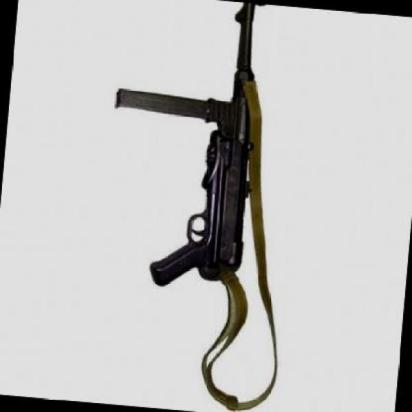Gun: (97, 0, 299, 305)
